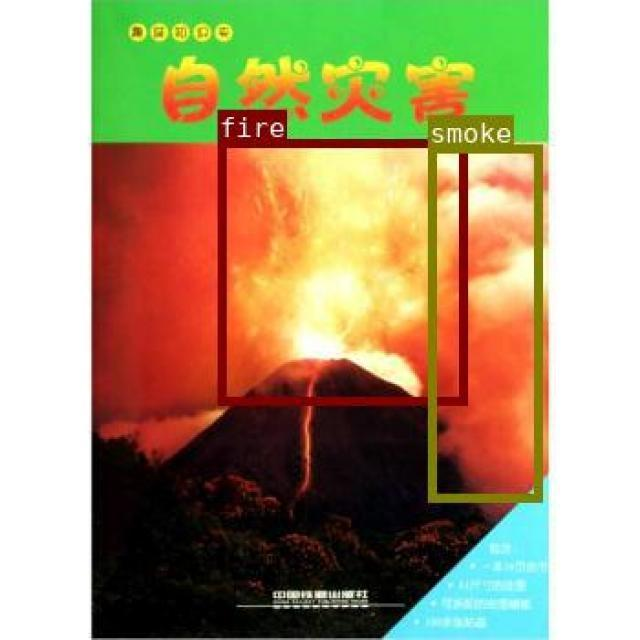fire: (217, 138, 465, 403)
smoke: (427, 144, 540, 501)
